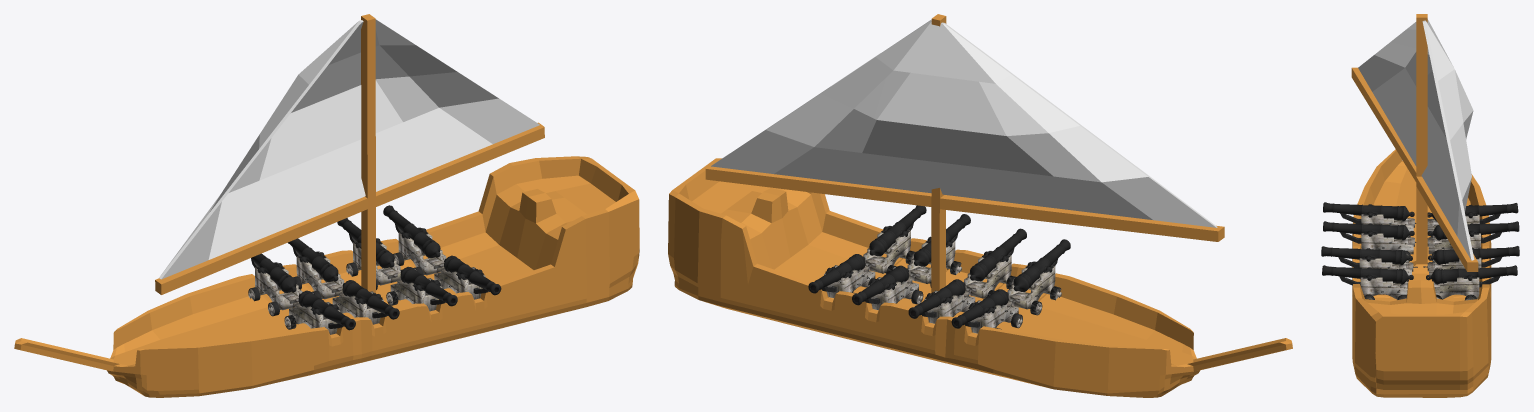
The model's file is sloop.glb.
The picture shows the model from 3 angles, left to right: view 1: azimuth 30°, elevation 25°; view 2: azimuth 150°, elevation 25°; view 3: azimuth 270°, elevation 25°; orthographic projection. The views are drawn at different scales.
Parts seen in each view (by area): view 1: Cube, Pirate Canon.004, Pirate Canon.008, Pirate Canon.007, Pirate Canon.002, Pirate Canon.006, Pirate Canon.001, Pirate Canon.003, Pirate Canon.005; view 2: Cube, Pirate Canon.006, Pirate Canon.003, Pirate Canon.001, Pirate Canon.008, Pirate Canon.005, Pirate Canon.004, Pirate Canon.007, Pirate Canon.002; view 3: Cube, Pirate Canon.001, Pirate Canon.003, Pirate Canon.004, Pirate Canon.006, Pirate Canon.002, Pirate Canon.007, Pirate Canon.005, Pirate Canon.008.
Boxes of the visible parts, <box> form: Cube: <box>14,14,639,397</box>; Pirate Canon.004: <box>383,205,446,275</box>; Pirate Canon.008: <box>248,253,302,316</box>; Pirate Canon.007: <box>288,238,344,299</box>; Pirate Canon.002: <box>386,266,457,311</box>; Pirate Canon.006: <box>284,290,355,334</box>; Pirate Canon.001: <box>332,280,399,324</box>; Pirate Canon.003: <box>434,255,501,299</box>; Pirate Canon.005: <box>337,218,402,289</box>; Cube: <box>668,14,1292,397</box>; Pirate Canon.006: <box>1007,239,1070,315</box>; Pirate Canon.003: <box>863,205,926,274</box>; Pirate Canon.001: <box>964,228,1026,298</box>; Pirate Canon.008: <box>951,289,1022,333</box>; Pirate Canon.005: <box>852,265,923,310</box>; Pirate Canon.004: <box>808,254,875,298</box>; Pirate Canon.007: <box>908,279,975,323</box>; Pirate Canon.002: <box>907,214,970,287</box>; Cube: <box>1351,14,1491,397</box>; Pirate Canon.001: <box>1323,221,1416,262</box>; Pirate Canon.003: <box>1322,265,1413,299</box>; Pirate Canon.004: <box>1426,265,1517,300</box>; Pirate Canon.006: <box>1323,202,1416,237</box>; Pirate Canon.002: <box>1321,246,1417,281</box>; Pirate Canon.007: <box>1427,221,1519,261</box>; Pirate Canon.005: <box>1423,246,1519,281</box>; Pirate Canon.008: <box>1427,203,1518,237</box>.
Size of the model in its own units: 26.81 by 13.66 by 8.6.
5 materials, 3 textured.
